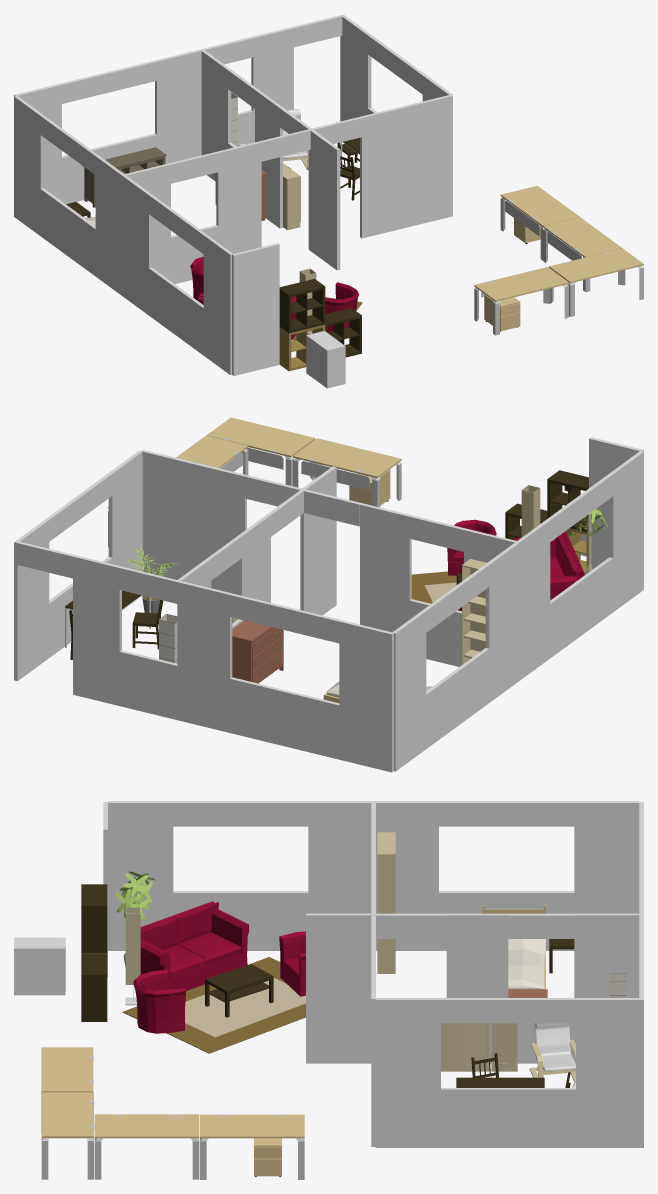
Rendered from adream.dae.
3 renders of one model, top to bottom at view 1: azimuth 30°, elevation 25°; view 2: azimuth 150°, elevation 25°; view 3: azimuth 270°, elevation 25°, orthographic. The views are drawn at different scales.
Visible parts, largest first — view 1: C6_plein_ext_P, IKEAShelf, office_desk, office_desk_003, office_desk_002, office_desk_001, IKEAShelf_bb, IKEA_console_HEMNES, IKEAShelf_mesh, IKEA_cupboard_BILLY_3, office_drawer_block_001, IKEA_armchair_EKTORP_001; view 2: C6_plein_ext_P, office_desk, office_desk_001, IKEA_chest_HEMNES, IKEAShelf, office_desk_002, IKEA_cupboard_BILLY_1, IKEA_sofa_EKTORP, IKEA_carpet_DRAGOR, IKEA_lamp_orgel, IKEA_RUTBO, IKEA_armchair_EKTORP_001 (+4 smaller); view 3: C6_plein_ext_P, IKEA_sofa_EKTORP, IKEA_carpet_DRAGOR, IKEAShelf, office_desk_002, office_desk_003, office_desk_001, IKEAShelf_bb, IKEA_armchair_EKTORP_001, office_desk, IKEA_cupboard_BILLY_3, IKEA_bed_FJELLSE (+9 smaller).
Boxes of the visible parts, x1,y1,x2,y2 form: C6_plein_ext_P: (14, 14, 452, 375); IKEAShelf: (279, 278, 361, 357); office_desk: (474, 267, 568, 335); office_desk_003: (500, 185, 579, 260); office_desk_002: (543, 217, 622, 292); office_desk_001: (549, 248, 643, 316); IKEAShelf_bb: (306, 331, 345, 388); IKEA_console_HEMNES: (83, 147, 166, 207); IKEAShelf_mesh: (279, 324, 325, 371); IKEA_cupboard_BILLY_3: (283, 163, 300, 230); office_drawer_block_001: (484, 294, 520, 331); IKEA_armchair_EKTORP_001: (325, 282, 358, 331); C6_plein_ext_P: (14, 437, 643, 772); office_desk: (293, 438, 401, 507); office_desk_001: (206, 417, 315, 486); IKEA_chest_HEMNES: (232, 620, 283, 683); IKEAShelf: (505, 470, 588, 539); office_desk_002: (176, 435, 248, 475); IKEA_cupboard_BILLY_1: (462, 559, 486, 664); IKEA_sofa_EKTORP: (514, 531, 584, 600); IKEA_carpet_DRAGOR: (411, 571, 456, 603); IKEA_lamp_orgel: (521, 485, 540, 537); IKEA_RUTBO: (159, 614, 177, 663); IKEA_armchair_EKTORP_001: (447, 519, 496, 575); C6_plein_ext_P: (103, 801, 643, 1147); IKEA_sofa_EKTORP: (140, 901, 248, 990); IKEA_carpet_DRAGOR: (122, 957, 305, 1053); IKEAShelf: (81, 884, 107, 1021); office_desk_002: (94, 1114, 199, 1179); office_desk_003: (200, 1114, 304, 1179); office_desk_001: (41, 1092, 94, 1179); IKEAShelf_bb: (14, 937, 65, 995); IKEA_armchair_EKTORP_001: (133, 969, 185, 1033); office_desk: (41, 1047, 93, 1134); IKEA_cupboard_BILLY_3: (441, 1023, 489, 1071); IKEA_bed_FJELLSE: (482, 905, 545, 989).
Size of what is drawn, in the model's own units: 8.41 by 9.64 by 2.5.
